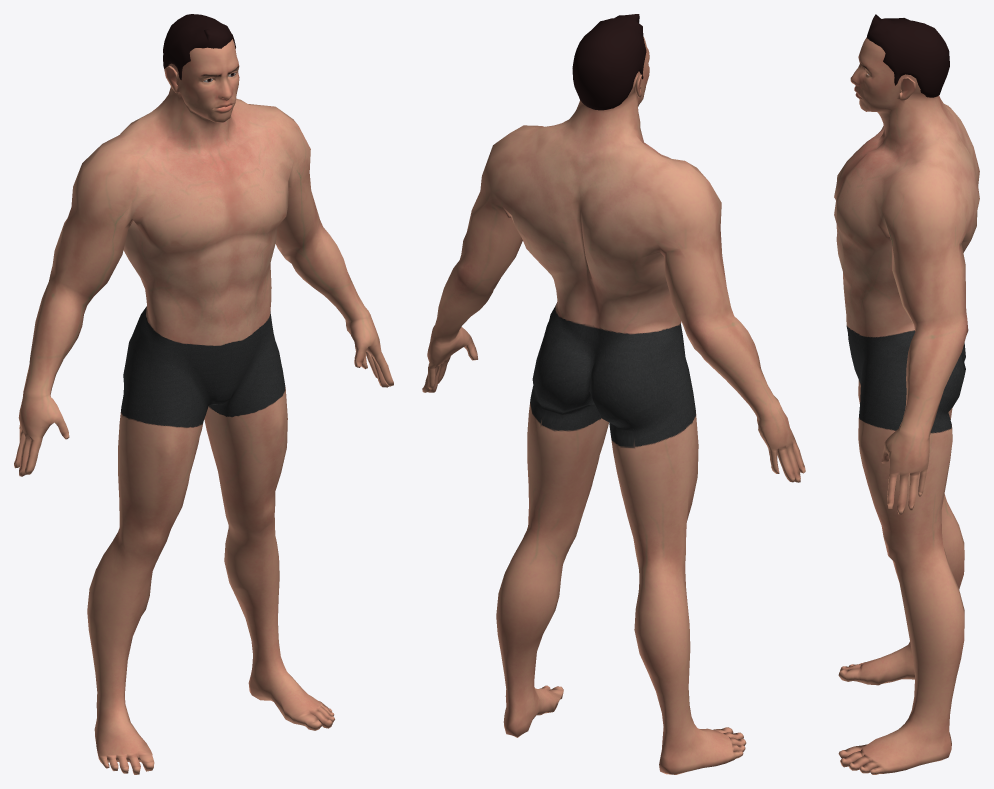
Rendered from Man.obj.
3 views of the same model, side by side, from view 1: azimuth 30°, elevation 25°; view 2: azimuth 150°, elevation 25°; view 3: azimuth 270°, elevation 25° (orthographic). The views are drawn at different scales.
Visible parts, largest first — view 1: Man; view 2: Man; view 3: Man.
Part boxes in pixels (left/top/right/bottom): Man: left=14, top=14, right=393, bottom=774; Man: left=422, top=14, right=805, bottom=774; Man: left=834, top=14, right=979, bottom=774.
Bounding box in the file's own units: 98.11 × 181 × 34.11.
Materials: 1 (1 with a texture image).
